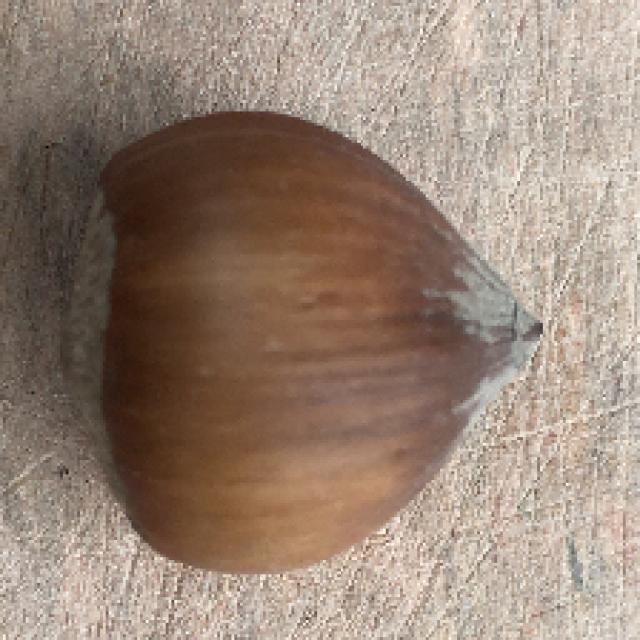qualityHazelnut: (62, 115, 546, 580)
